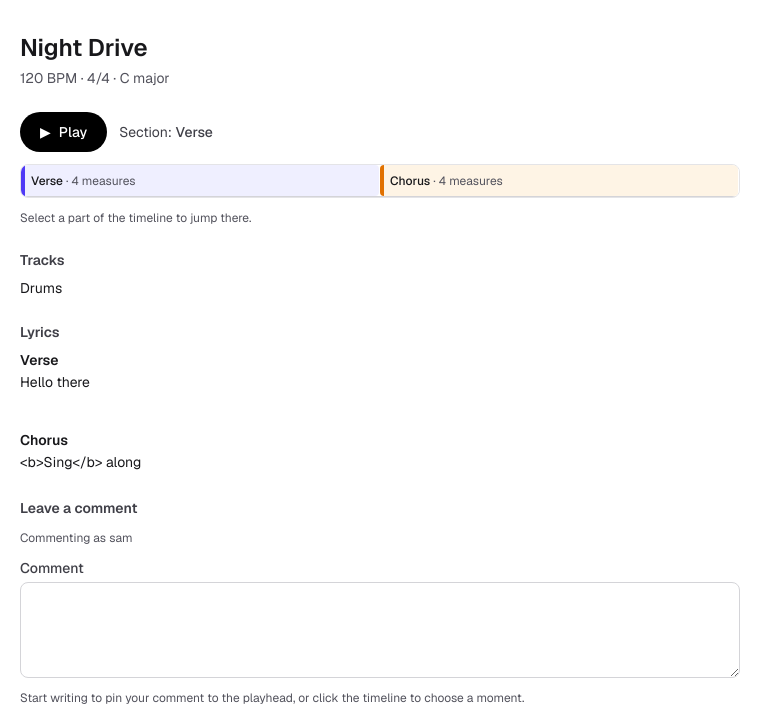
Test: Comments › keeps the text and asks to try later when rate limited
expect the heading "Night Drive" is shown: met, box [20,32,148,63]
expect the text "Commenting as sam" is shown: met, box [20,530,132,546]
Type "Please keep me" into the text box labelled "Comment" at (380, 630), box [20,582,740,678]
(page scrolled)
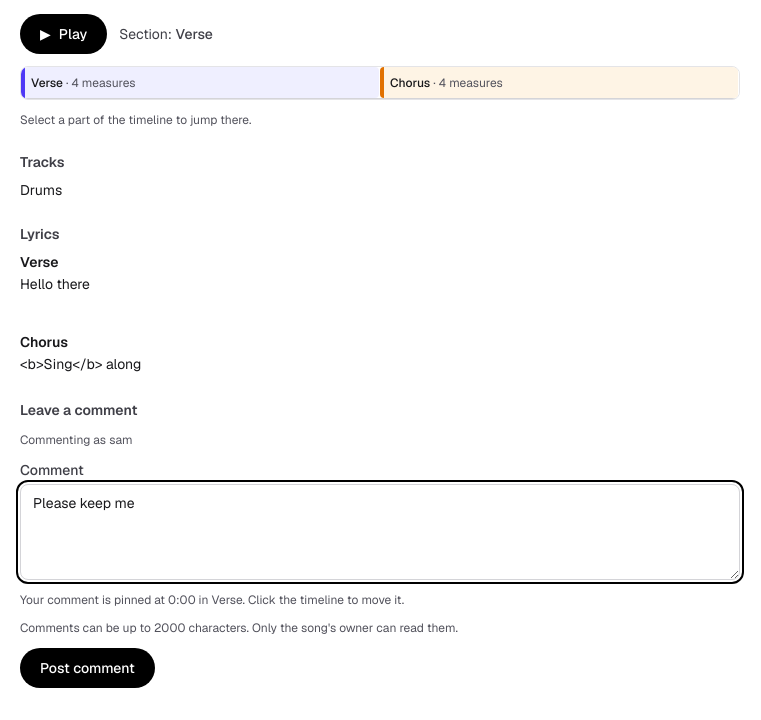
Click the button "Post comment" at (87, 668), box [20,648,155,688]
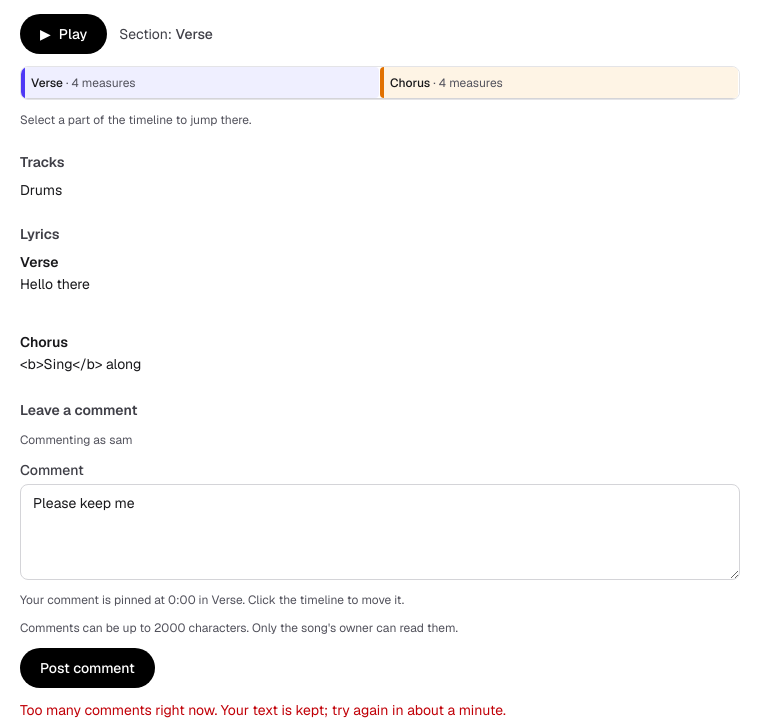
expect the message shows "Your text is kept; try again in about a minute": met, box [20,701,506,719]
